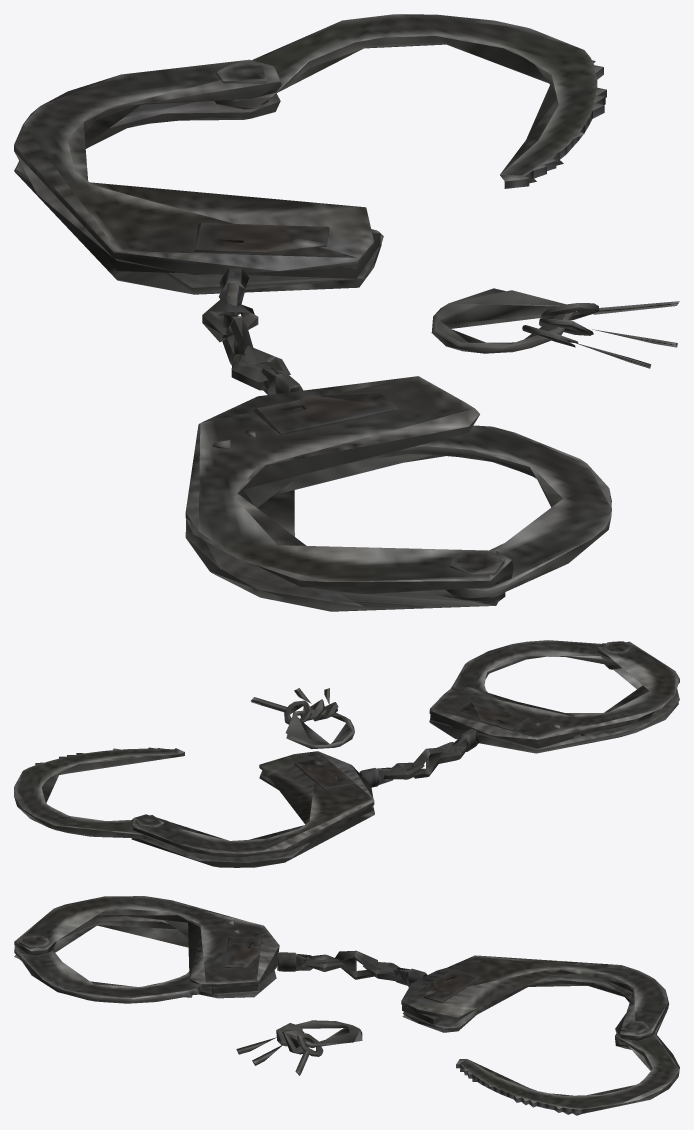
The model's file is z_algema.glb.
The picture shows the model from 3 angles, top to bottom: view 1: azimuth 30°, elevation 25°; view 2: azimuth 150°, elevation 25°; view 3: azimuth 270°, elevation 25°; orthographic projection. The views are drawn at different scales.
Parts seen in each view (by area): view 1: Object_3; view 2: Object_3; view 3: Object_3.
Part boxes in pixels (bbox=[...]): Object_3: bbox=[14, 14, 679, 611]; Object_3: bbox=[14, 640, 679, 867]; Object_3: bbox=[14, 896, 679, 1115].
Size of the model in its own units: 4.48 by 0.2703 by 5.99.
Materials: 1 (1 with a texture image).
